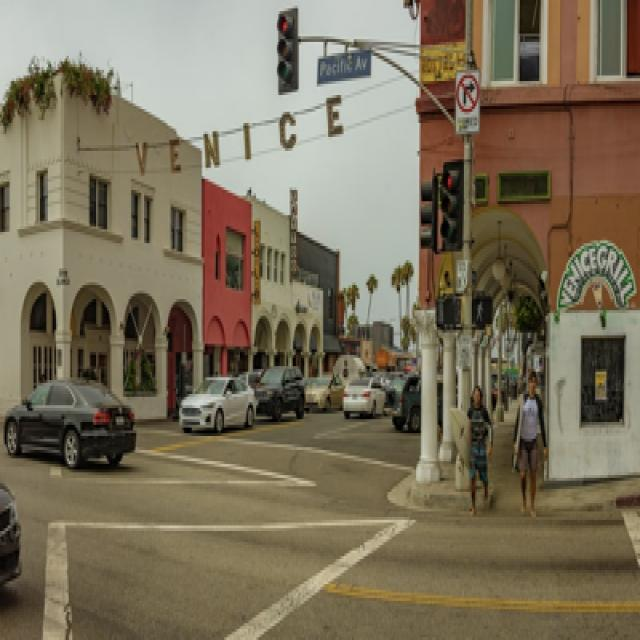trafficlight: (435, 156, 464, 248), (272, 3, 299, 92), (413, 165, 435, 251)
